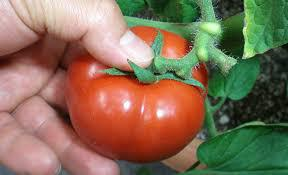tomato: (67, 28, 206, 160)
